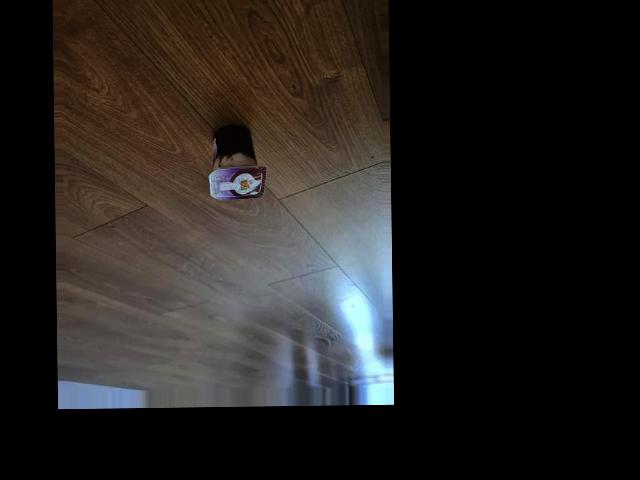milky: (207, 123, 264, 201)
